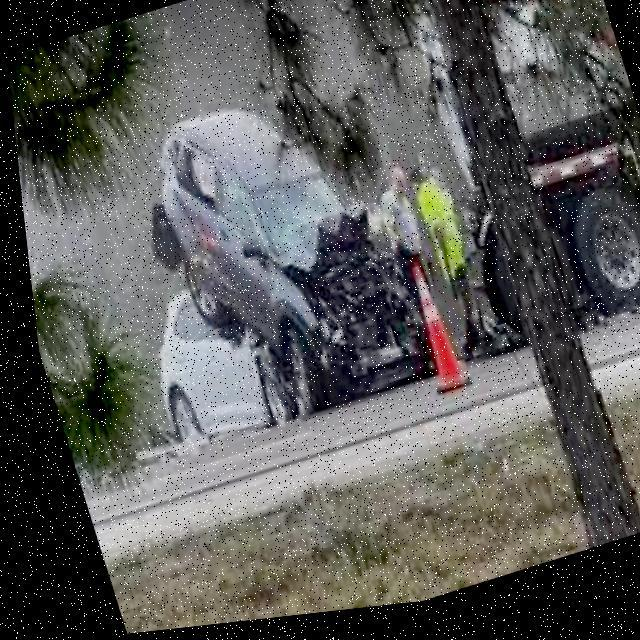Car Accident Detector - v4 Generation1 Exported: (72, 68, 444, 469)
